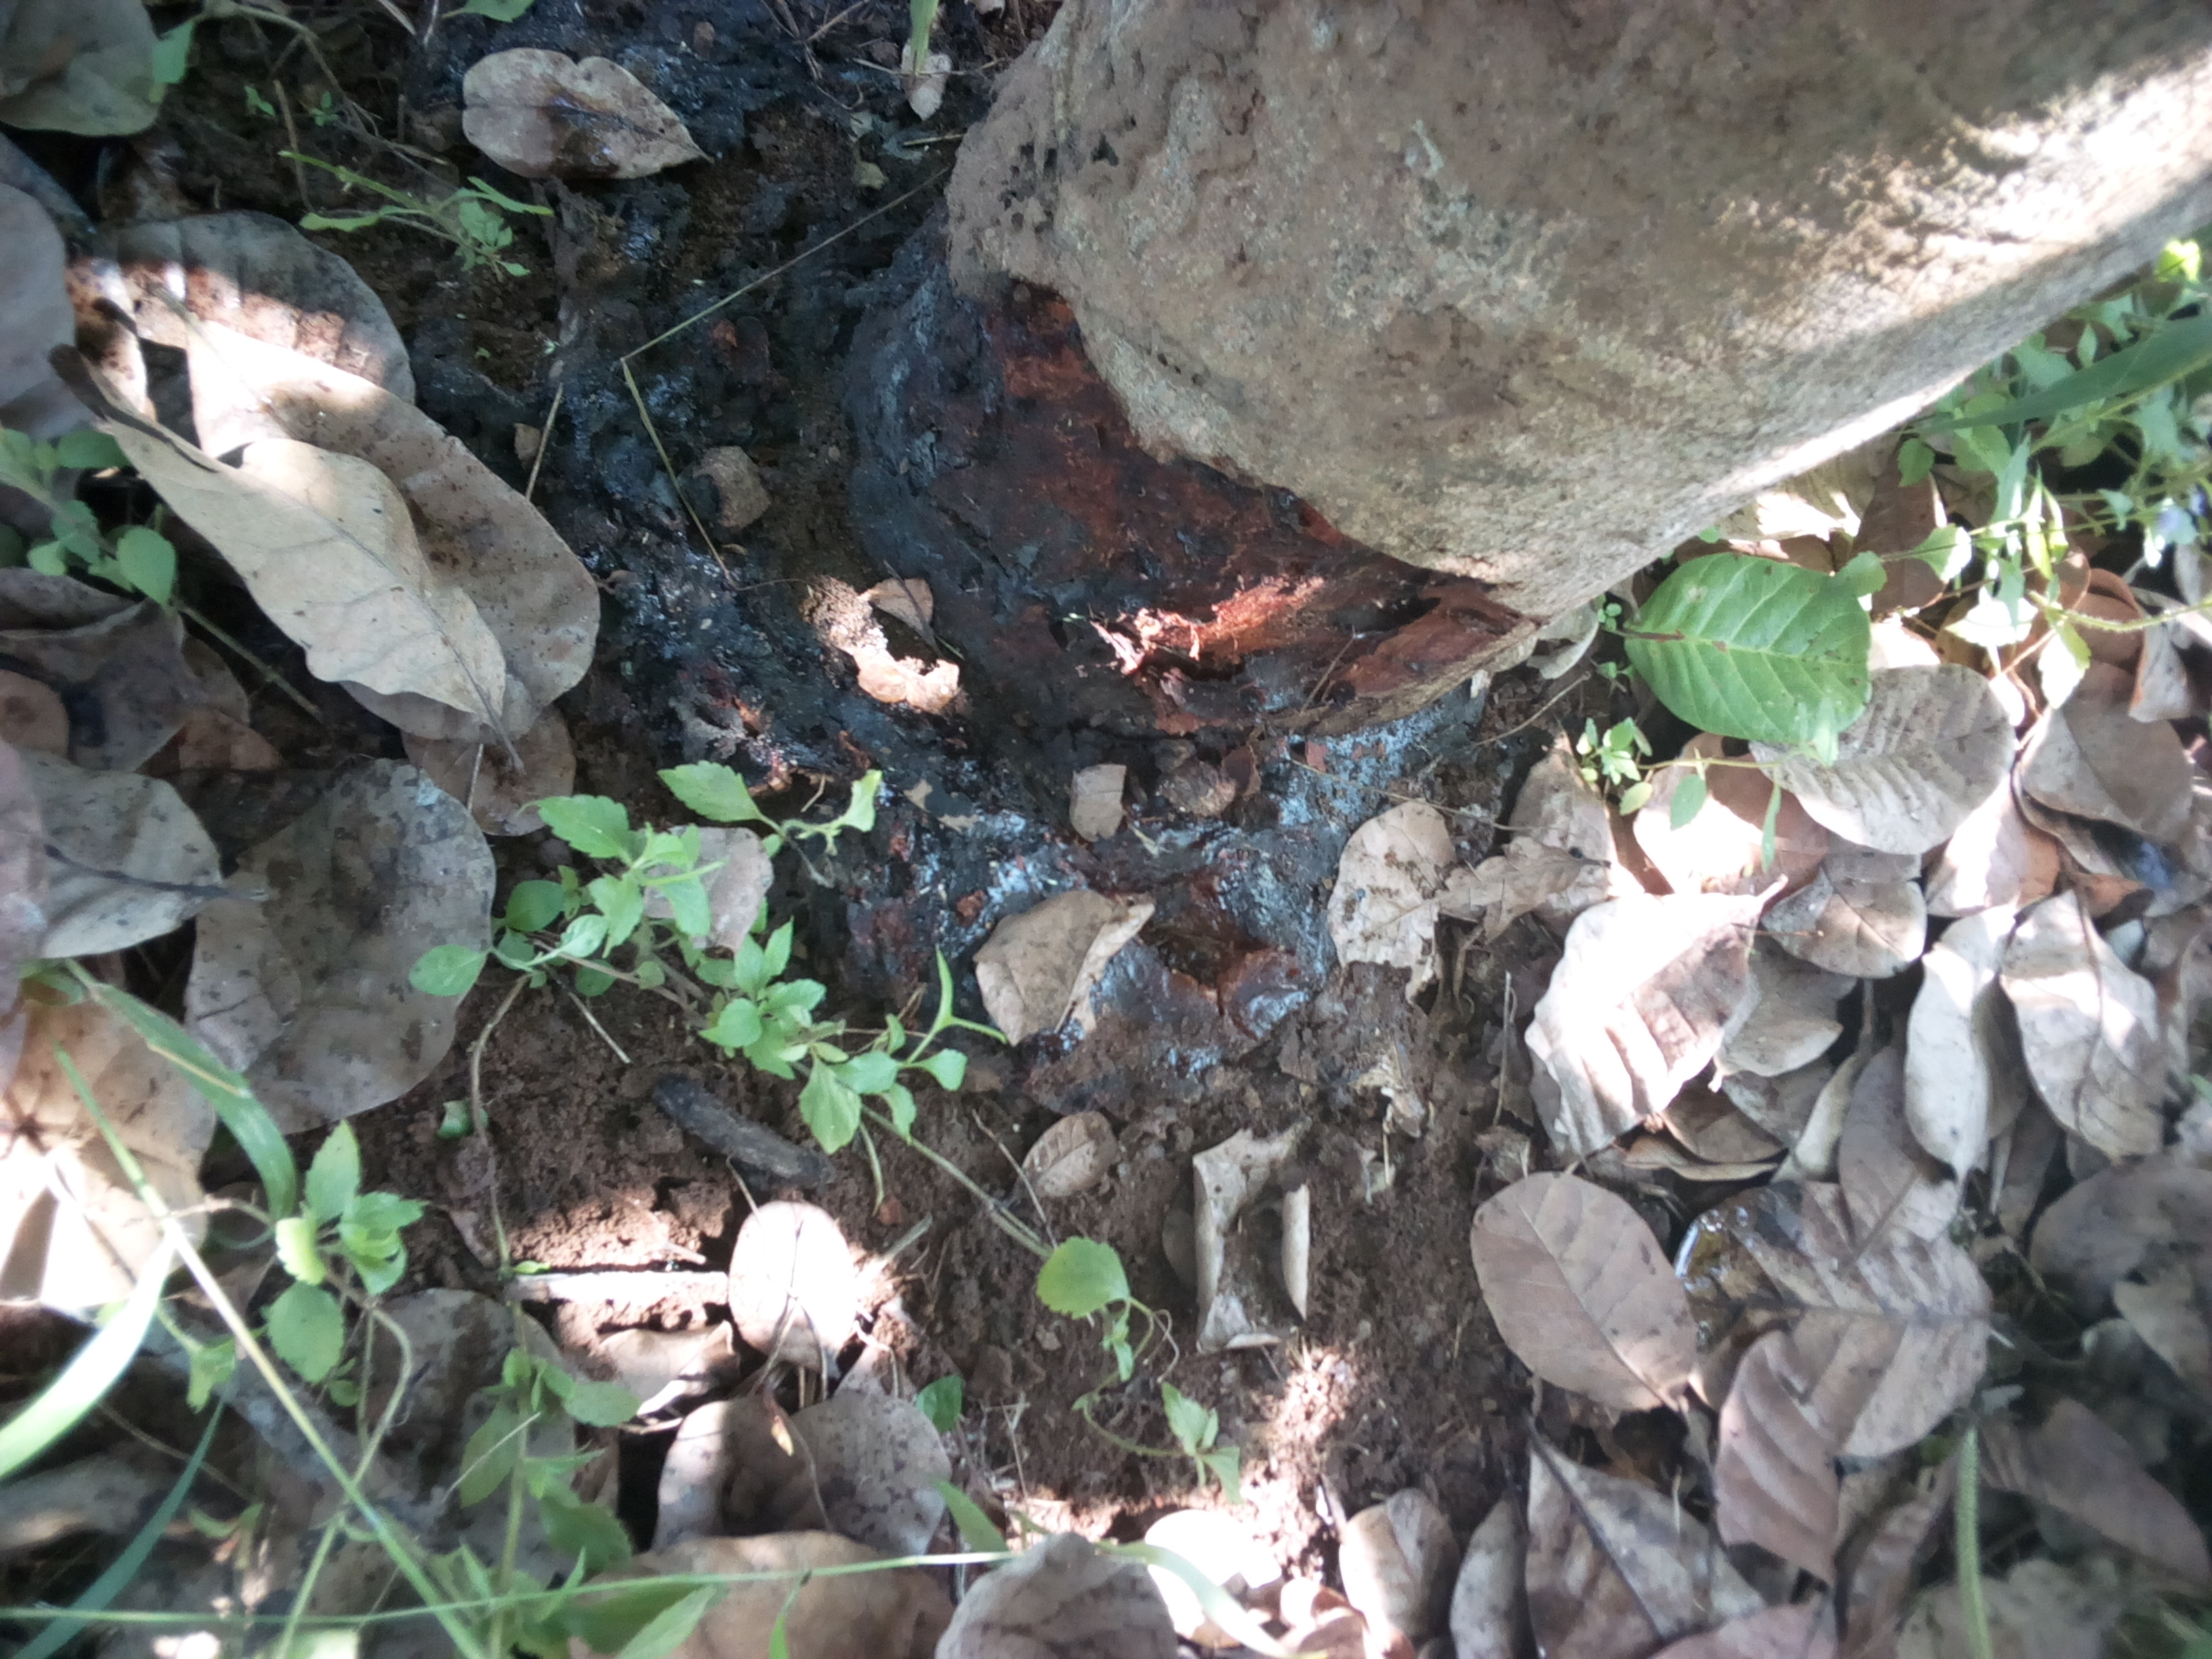ploceadorus ferrugineus: (777, 192, 1629, 985)
